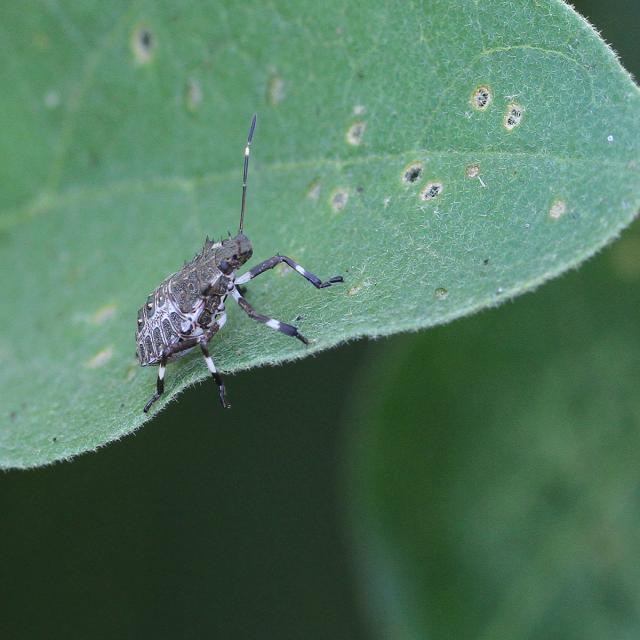stink_bug: (111, 127, 349, 426)
